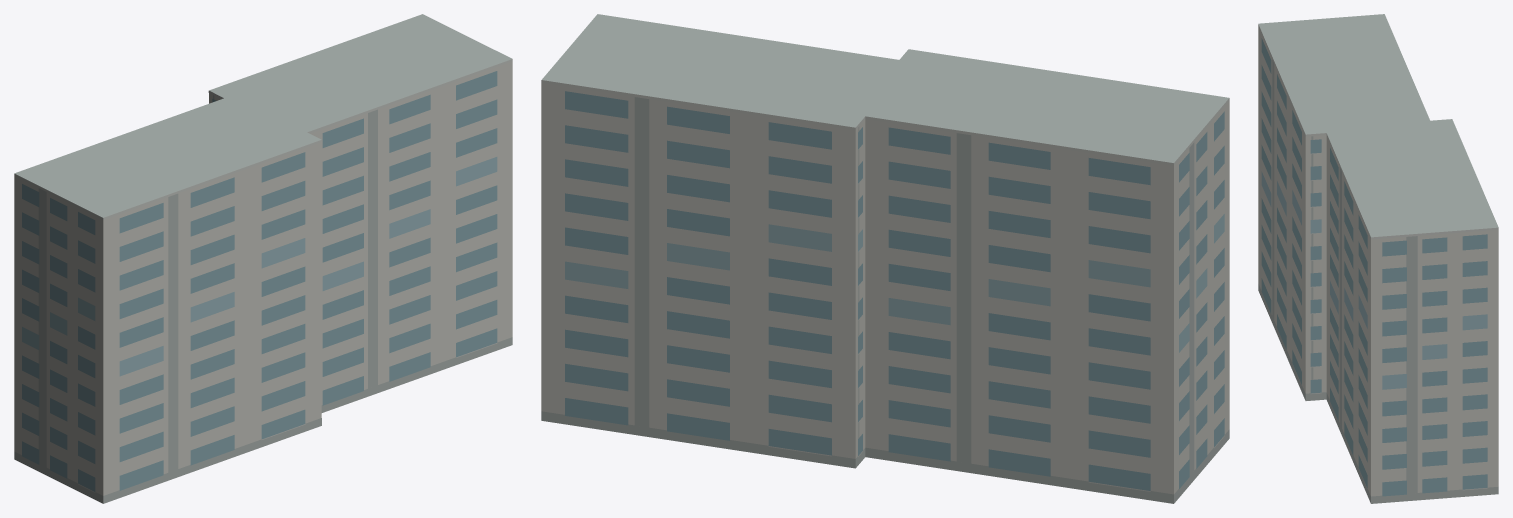
Rendered from residential-f8c04f0e-5296-4300-8885-33b2300da7ec.glb.
3 views of the same model, side by side, from view 1: azimuth 30°, elevation 25°; view 2: azimuth 150°, elevation 25°; view 3: azimuth 270°, elevation 25° (orthographic). The views are drawn at different scales.
Parts seen in each view (by area): view 1: residential-f8c04f0e-5296-4300-8885-33b2300da7ec.tmp; view 2: residential-f8c04f0e-5296-4300-8885-33b2300da7ec.tmp; view 3: residential-f8c04f0e-5296-4300-8885-33b2300da7ec.tmp.
Part boxes in pixels (x1,y1,x2,y2): residential-f8c04f0e-5296-4300-8885-33b2300da7ec.tmp: (14, 14, 512, 503); residential-f8c04f0e-5296-4300-8885-33b2300da7ec.tmp: (541, 14, 1229, 503); residential-f8c04f0e-5296-4300-8885-33b2300da7ec.tmp: (1258, 14, 1498, 503).
Size of the model in its own units: 52.12 by 29 by 23.72.
